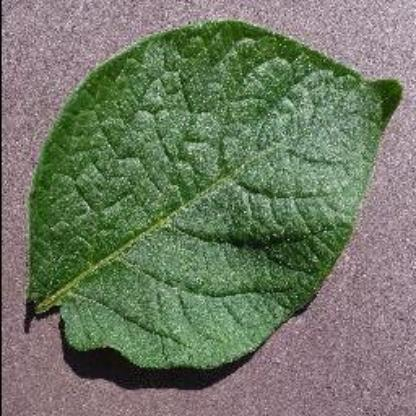Healthy-plant: (22, 28, 409, 380)
